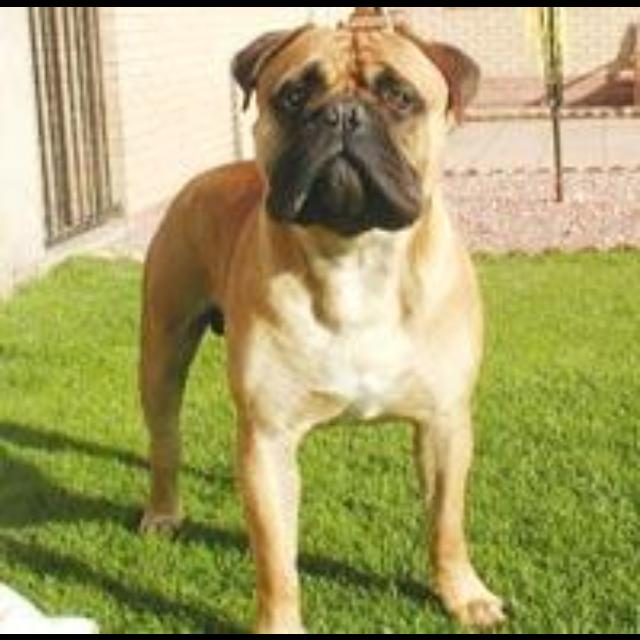bullmastiff: (136, 7, 510, 631)
